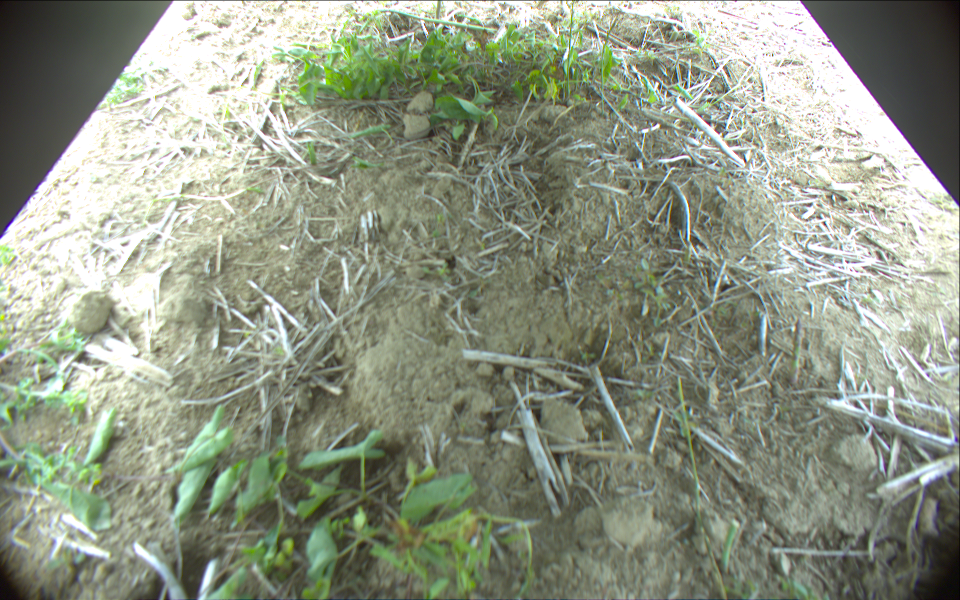aspa: (357, 8, 496, 34), (436, 1, 443, 22)
